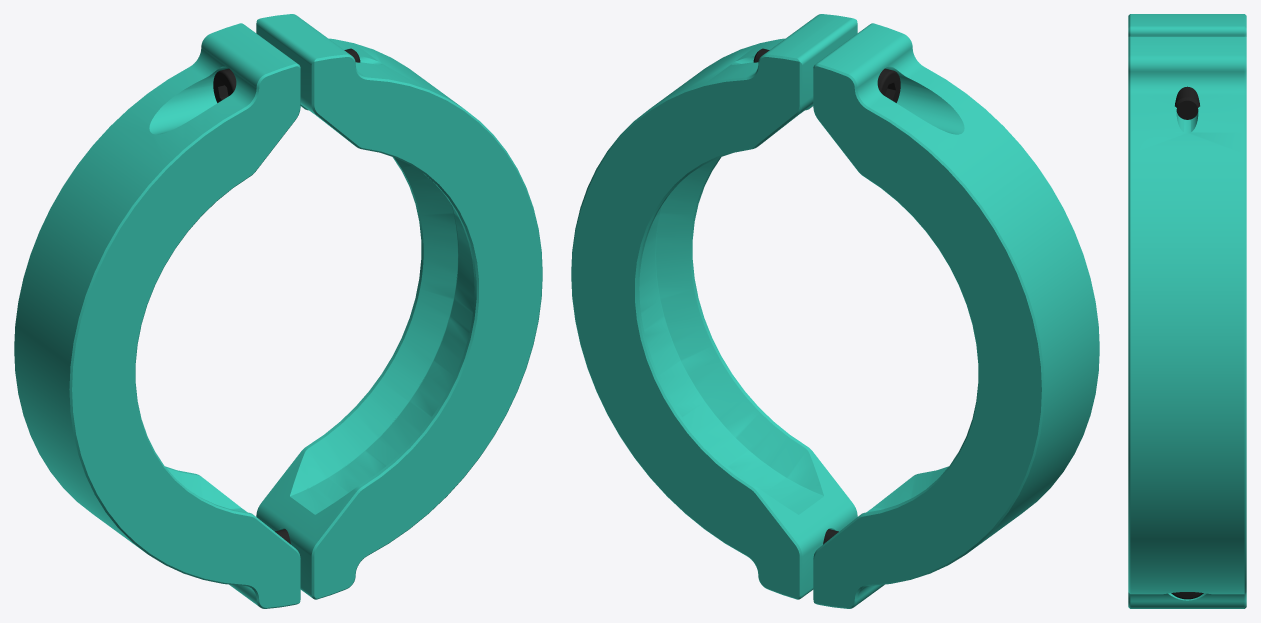
The picture shows the model from 3 angles, left to right: view 1: azimuth 30°, elevation 25°; view 2: azimuth 150°, elevation 25°; view 3: azimuth 270°, elevation 25°; orthographic projection. The views are drawn at different scales.
Visible parts, largest first — view 1: C86.001; view 2: C86.001; view 3: C86.001.
Boxes of the visible parts, box(x1,y1,x2,y2) form: C86.001: box(14, 14, 542, 608); C86.001: box(571, 14, 1099, 608); C86.001: box(1128, 14, 1246, 608).
Size of the model in its own units: 0.086 by 0.0939 by 0.018.
